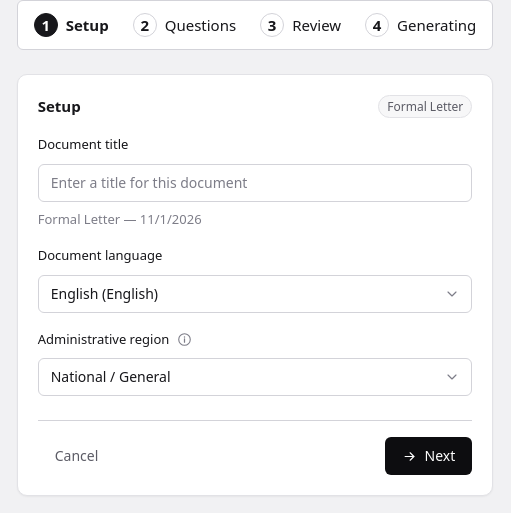
Test: GuidedFlowWizard › offers Ethiopian legal smart-input suggestions while answering questions
Click the button "Next" at (428, 456), box [385,437,472,475]
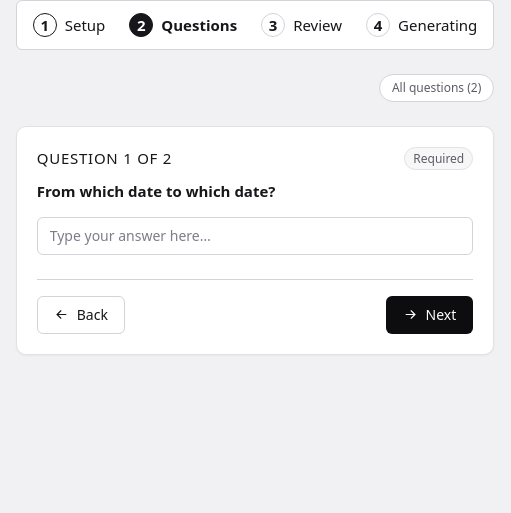
Type "16/10/26" into the field named "From which date to which date?" at (255, 236), box [37,217,473,255]
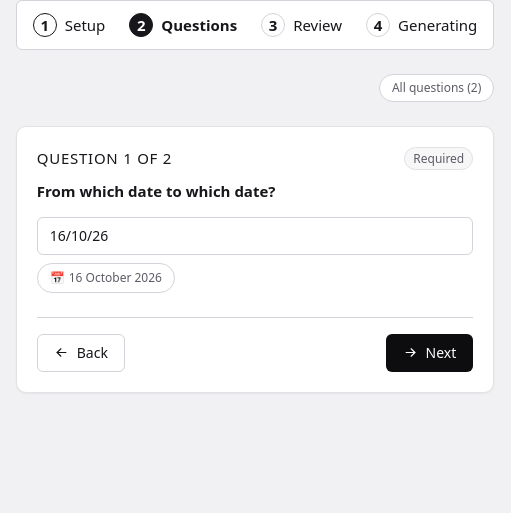
Click the button "📅 16 October 2026" at (106, 278), box [37,263,175,293]
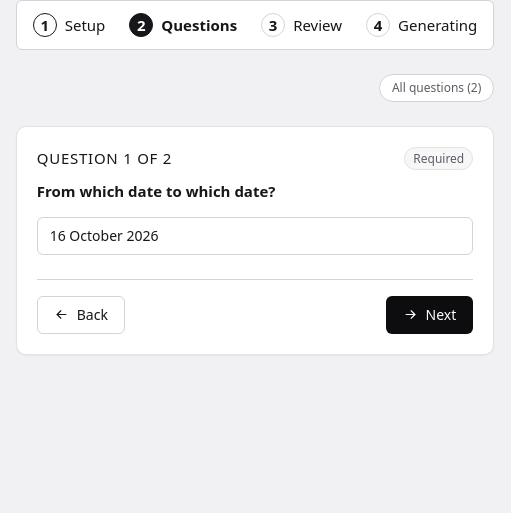
Result: the field named "From which date to which date?" holds "16 October 2026" at [37,217,473,255]
# Currency: 150000 → tamper-proof Birr words in parentheses.
Click the button "Next" at (429, 315), box [386,296,473,334]
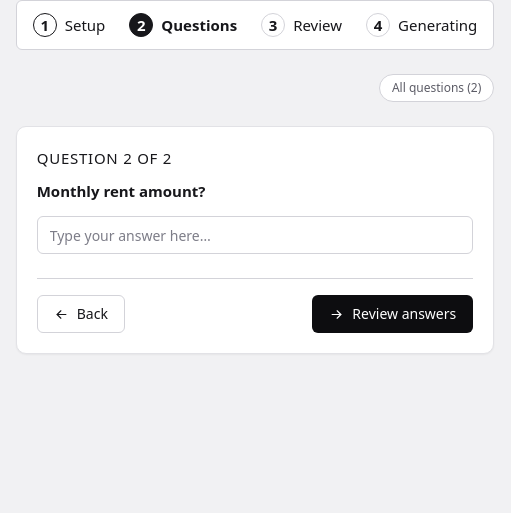
Type "150000" into the field named "Monthly rent amount?" at (255, 235), box [37,216,473,254]
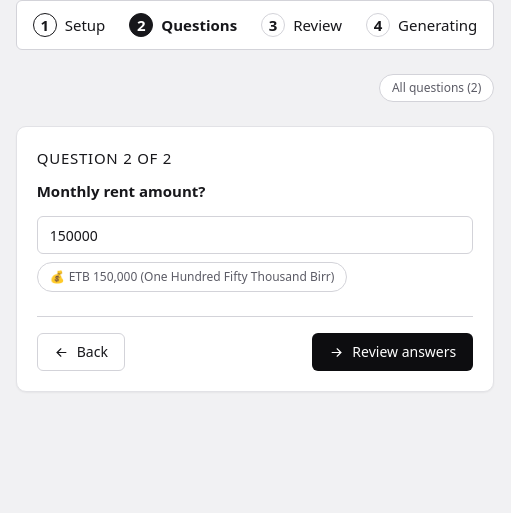
Click the button "💰 ETB 150,000 (One Hundred Fifty Thousand Birr)" at (192, 277), box [37,262,347,292]
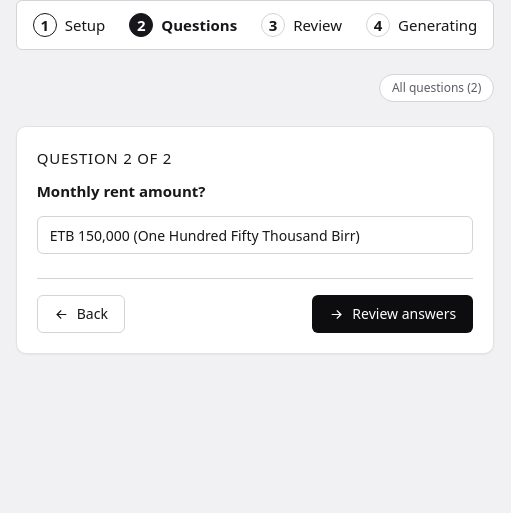
Result: the field named "Monthly rent amount?" holds "ETB 150,000 (One Hundred Fifty Thousand Birr)" at [37,216,473,254]
